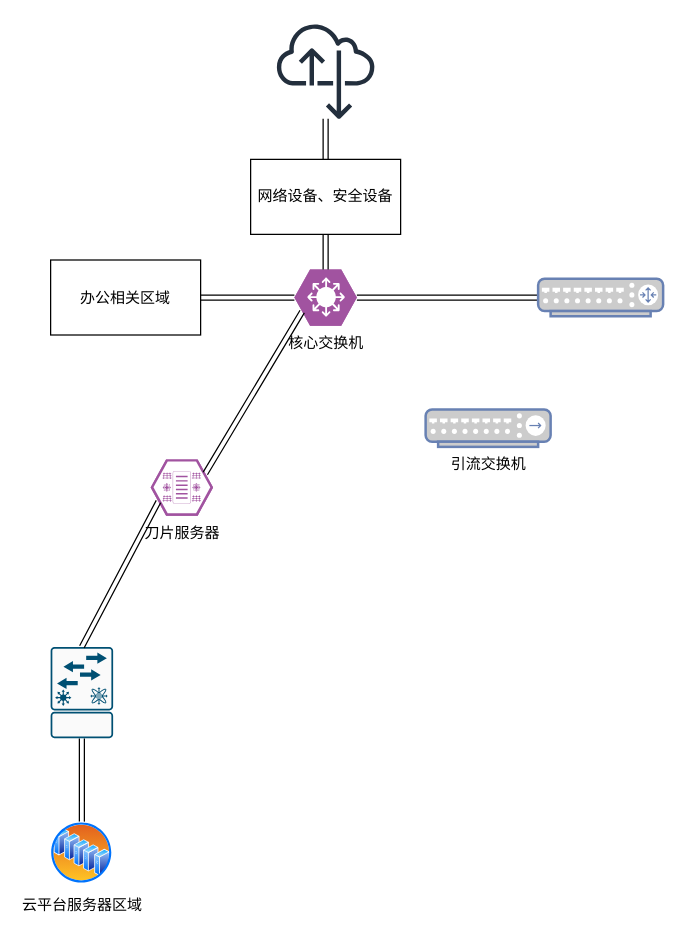
The diagram is 685 pixels wide and 935 high, and some of its shapes have lost their labels. The box of each missing label's shape, as (x1, y1, x2, y2) in pixels:
中心以外网络: (276, 21, 374, 119)
云平台接入交换机: (49, 646, 113, 738)
管理交换机: (536, 277, 664, 317)
